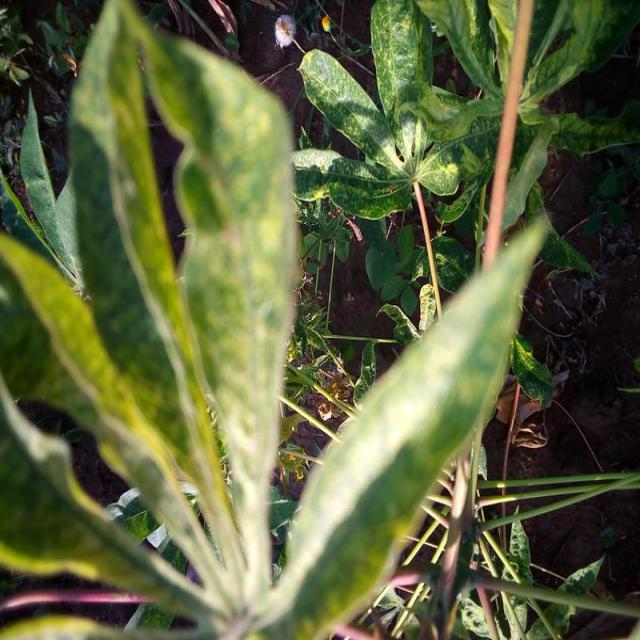cassava leaf: (1, 0, 636, 638), (258, 207, 550, 638)
